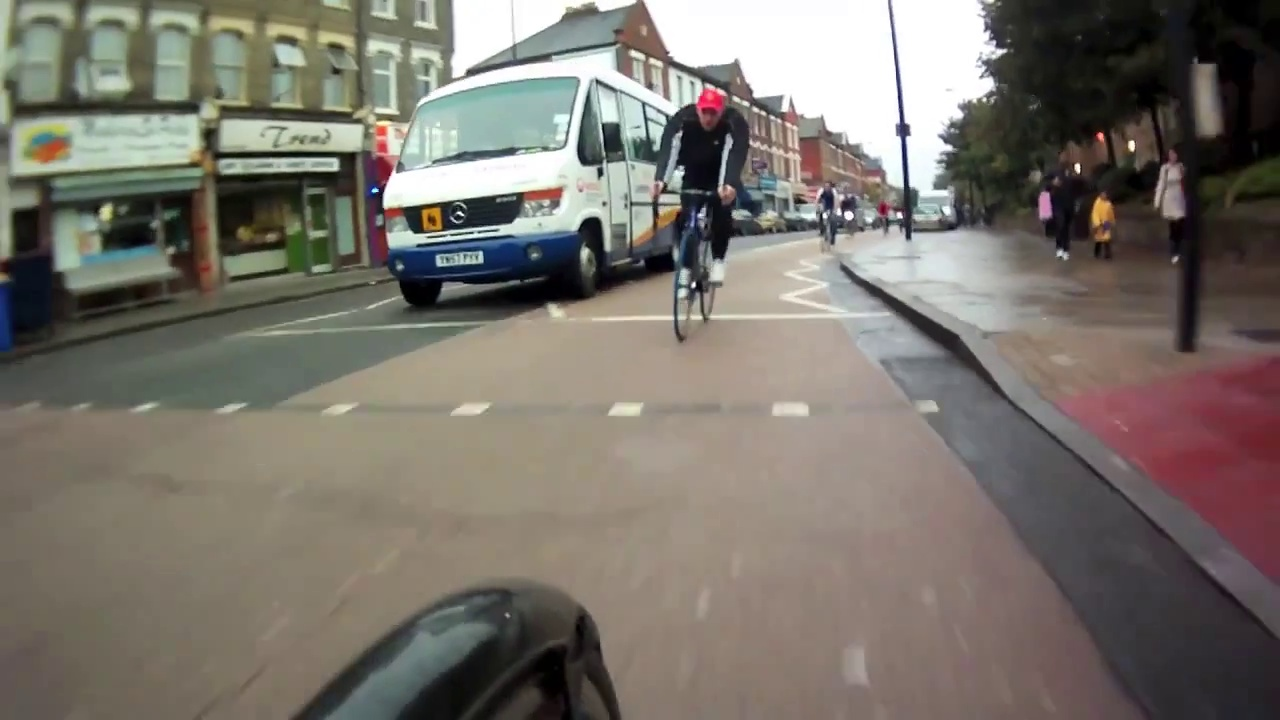cyclist_front: (657, 77, 737, 342), (807, 177, 837, 255), (840, 189, 857, 231)
